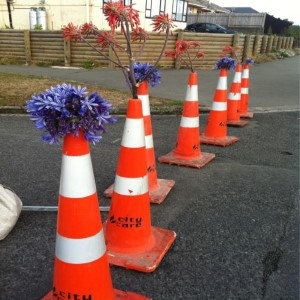traffic cone: (40, 109, 150, 300), (89, 98, 176, 273), (103, 79, 176, 206), (157, 72, 216, 169), (195, 66, 238, 148), (218, 60, 247, 127), (237, 61, 254, 119)
